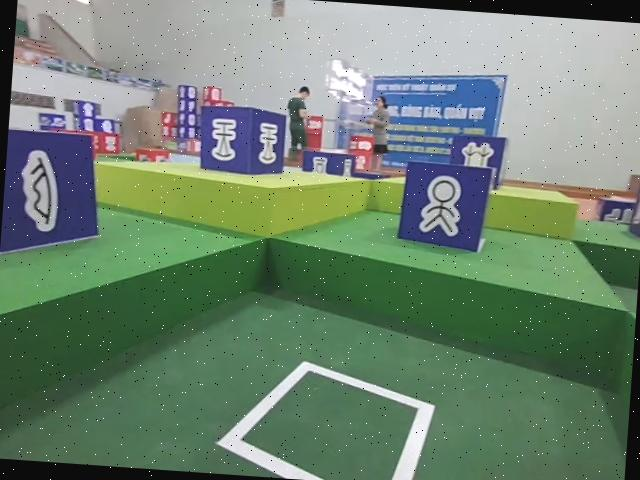R2 Real Blue: (0, 125, 104, 264), (395, 159, 491, 254), (198, 102, 287, 177), (446, 132, 507, 190), (300, 149, 355, 177)
